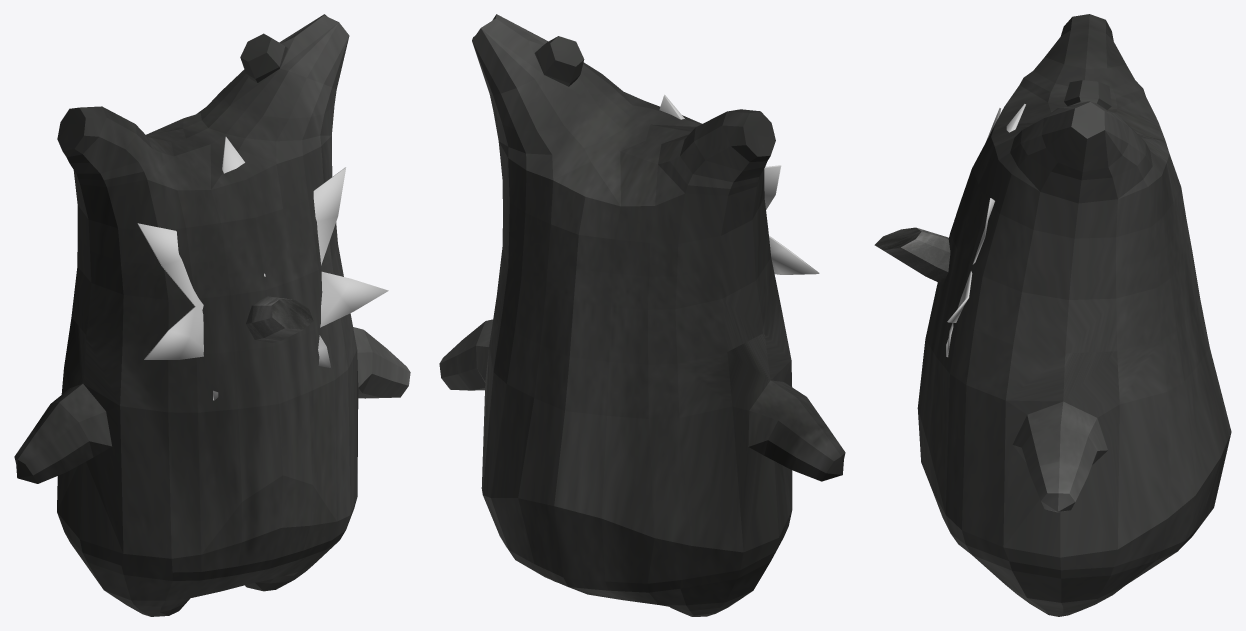
File: frame_0159.obj
3 renders of one model, left to right at view 1: azimuth 30°, elevation 25°; view 2: azimuth 150°, elevation 25°; view 3: azimuth 270°, elevation 25°, orthographic. The views are drawn at different scales.
Visible parts, largest first — view 1: korok, leaf.003_柱体.013, nose.003_柱体.011; view 2: korok, leaf.003_柱体.013; view 3: korok, nose.003_柱体.011, leaf.003_柱体.013.
Boxes of the visible parts, bbox=[...] form: korok: bbox=[14, 14, 410, 616]; leaf.003_柱体.013: bbox=[137, 136, 388, 400]; nose.003_柱体.011: bbox=[246, 296, 313, 342]; korok: bbox=[439, 14, 845, 616]; leaf.003_柱体.013: bbox=[659, 94, 819, 274]; korok: bbox=[917, 14, 1231, 616]; nose.003_柱体.011: bbox=[874, 227, 950, 284]; leaf.003_柱体.013: bbox=[946, 104, 1025, 357].
Size of the model in its own units: 1.68 by 2.25 by 1.33.
